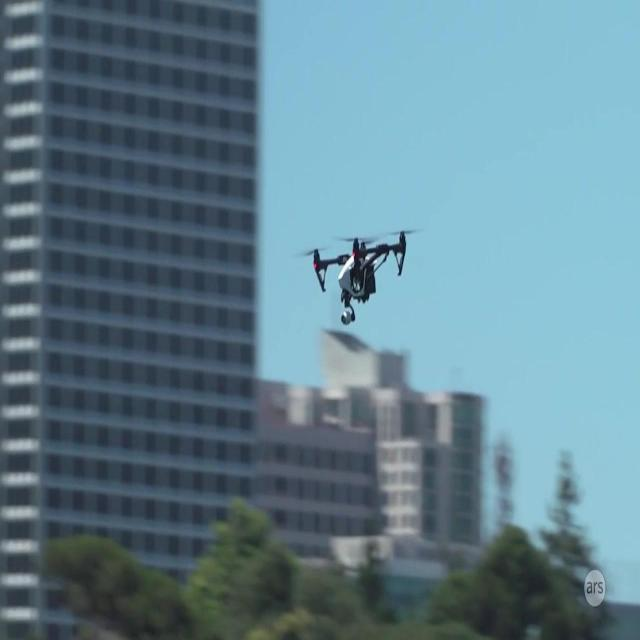drone: (306, 225, 411, 327)
